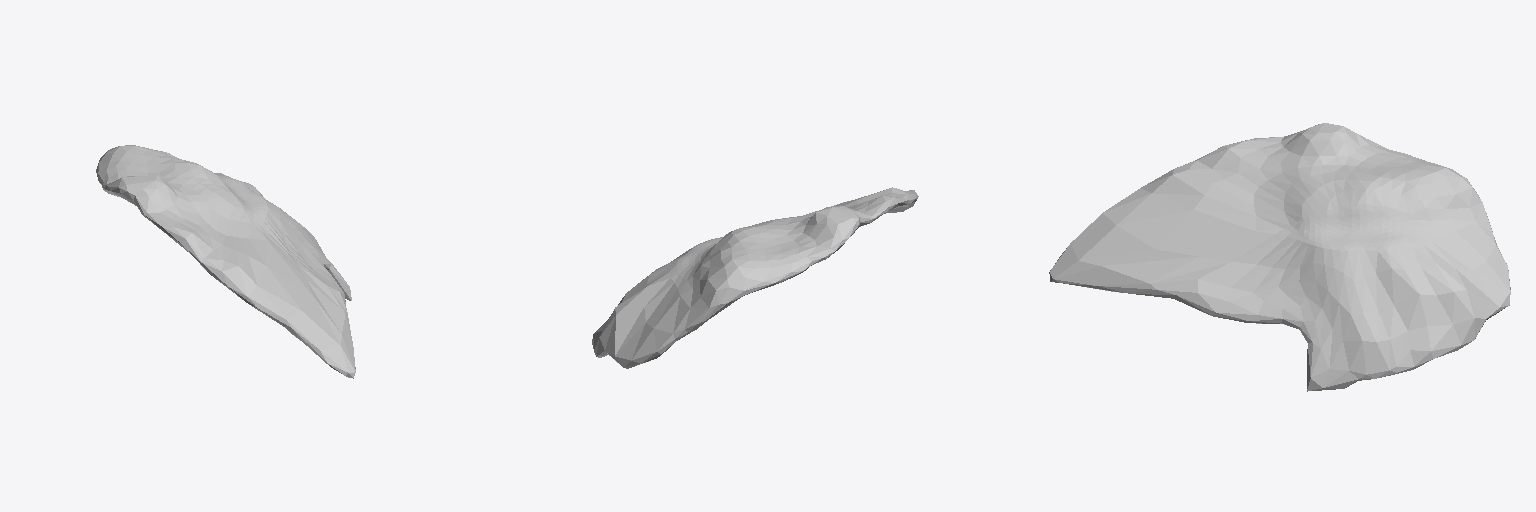
Rendered from randomLeaf1.obj.
3 views of the same model, side by side, from view 1: azimuth 30°, elevation 25°; view 2: azimuth 150°, elevation 25°; view 3: azimuth 270°, elevation 25° (orthographic).
Parts seen in each view (by area): view 1: randomLeaf; view 2: randomLeaf; view 3: randomLeaf.
Part boxes in pixels (bbox=[...]): randomLeaf: bbox=[96, 145, 355, 378]; randomLeaf: bbox=[592, 187, 918, 368]; randomLeaf: bbox=[1049, 123, 1510, 391].
Size of the model in its own units: 0.6749 by 0.4665 by 1.19.